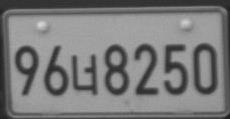0: (191, 41, 218, 96)
2: (133, 42, 159, 95)
5: (163, 43, 189, 95)
6: (43, 45, 69, 96)
8: (102, 43, 130, 95)
9: (13, 44, 40, 95)
너: (71, 53, 98, 96)
